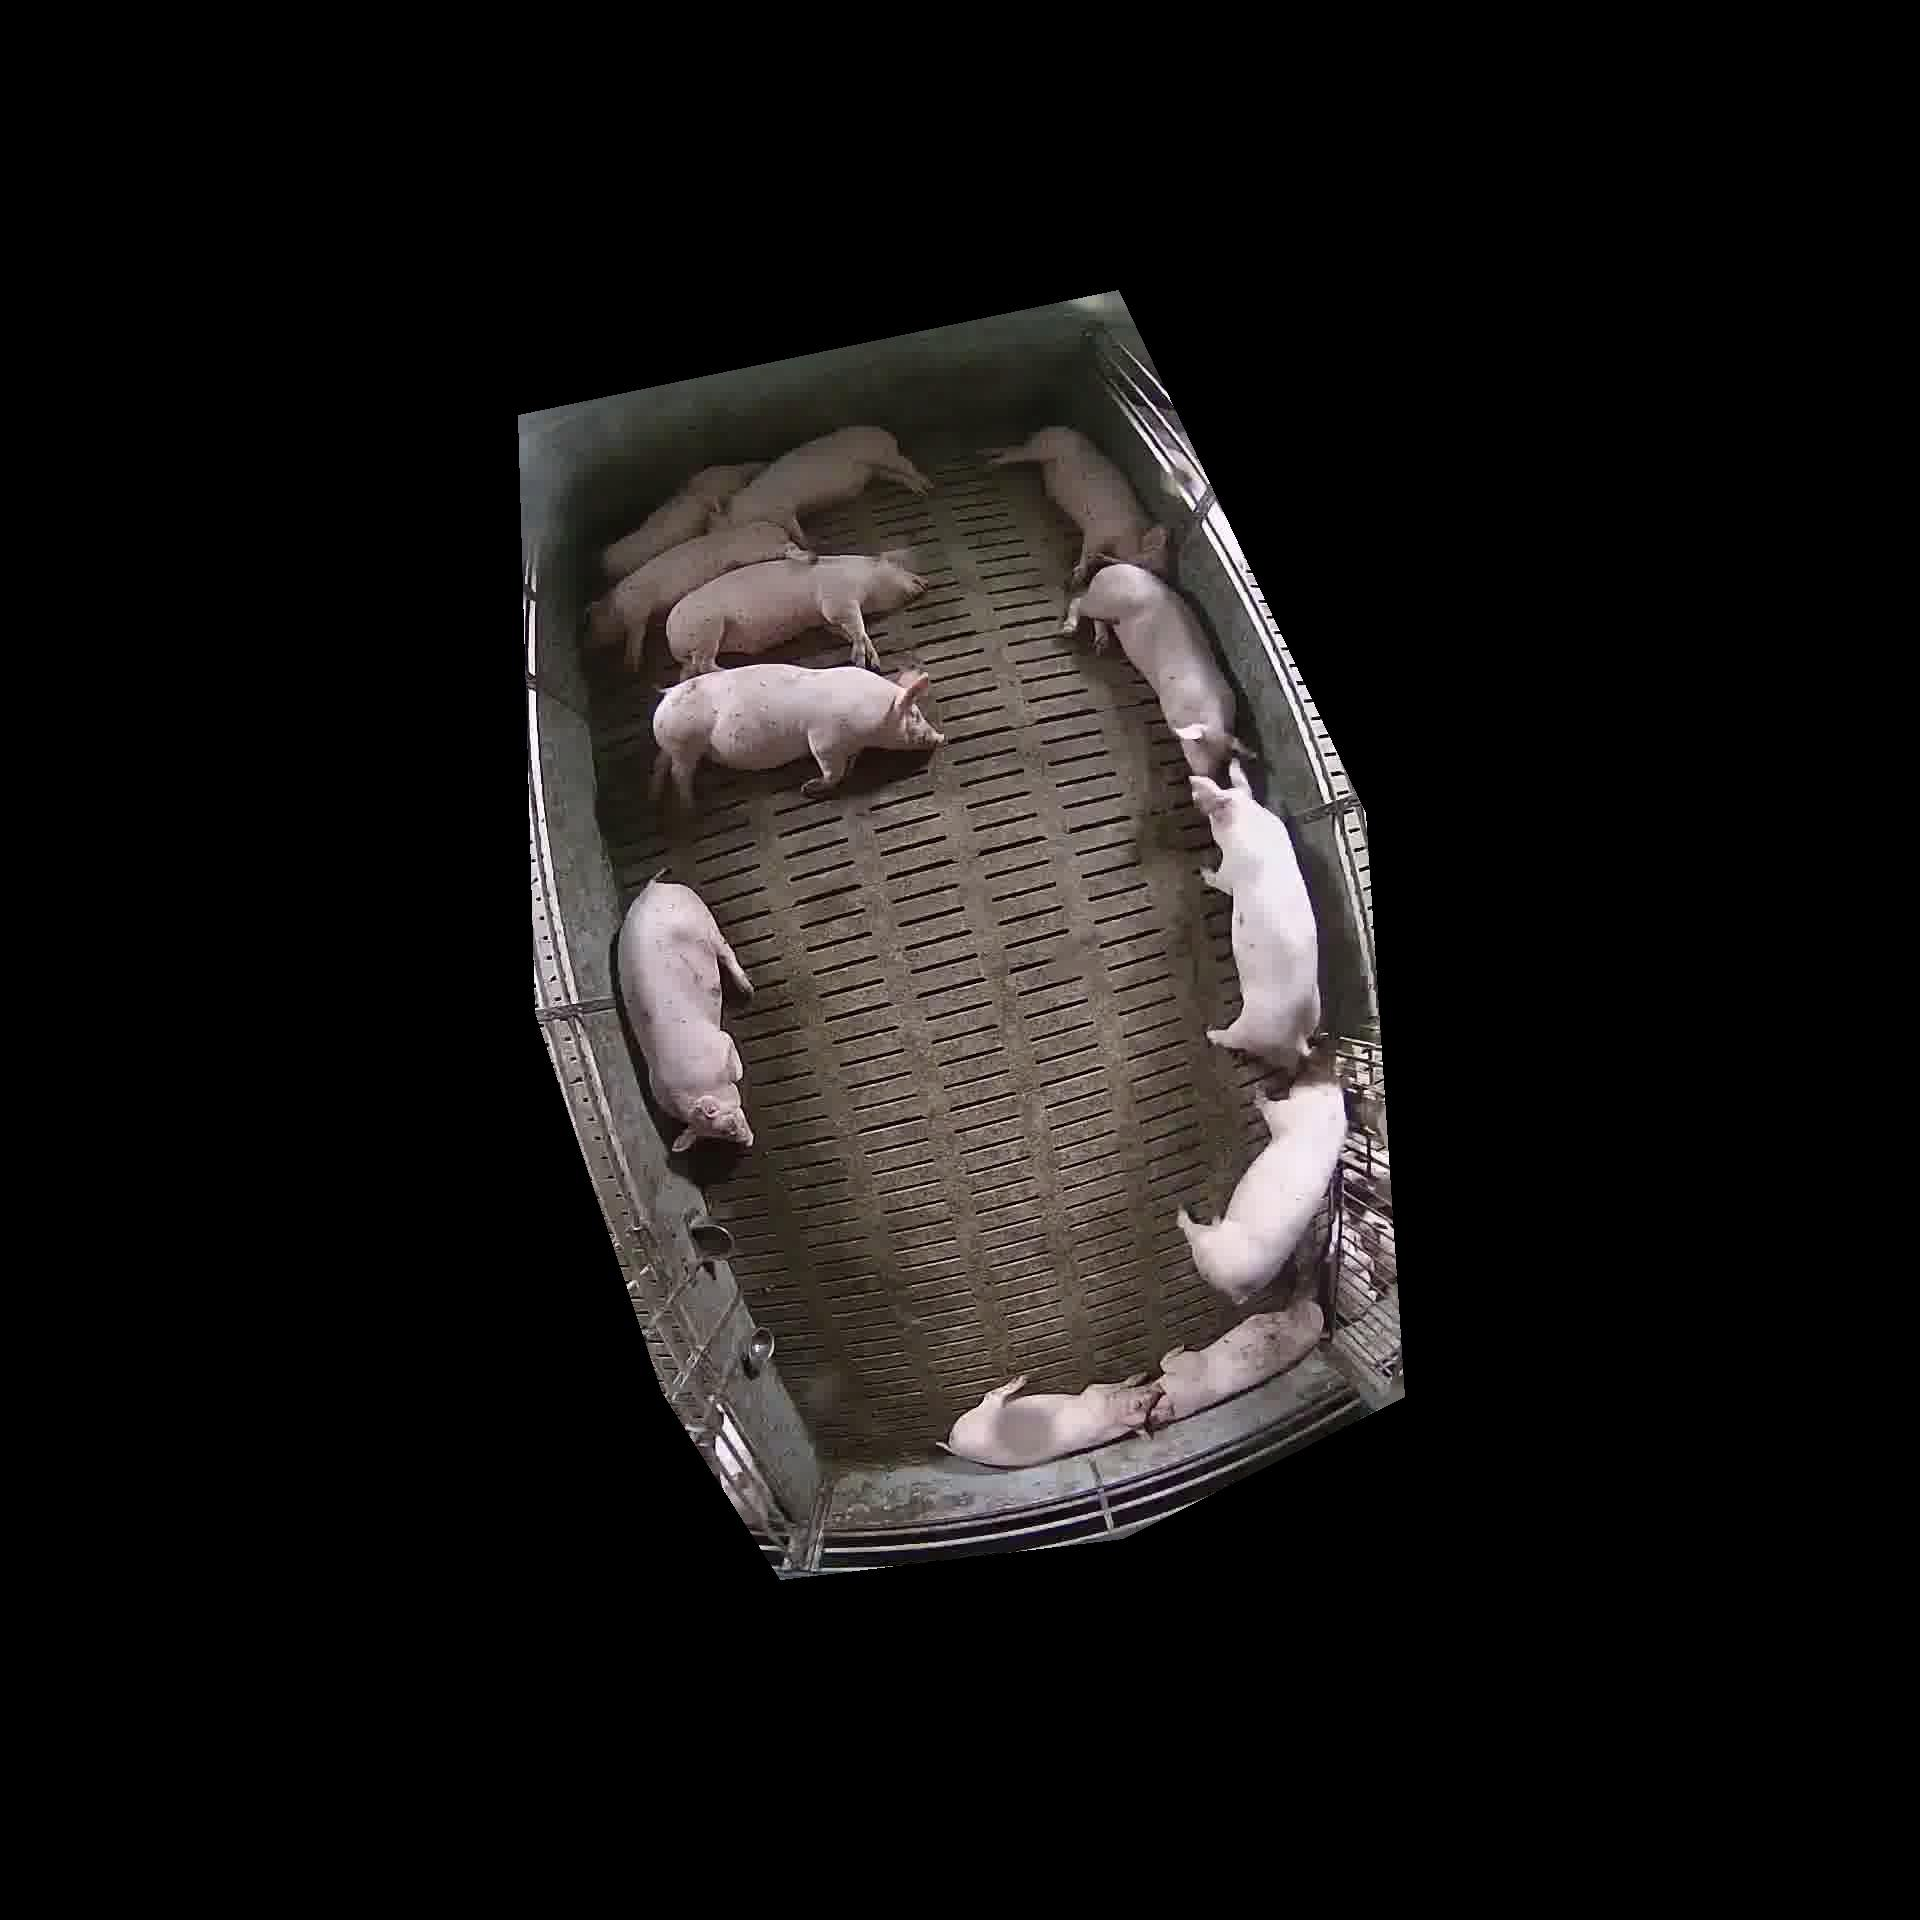pig: (651, 665, 942, 807), (1190, 761, 1320, 1071), (1064, 559, 1245, 774), (617, 879, 753, 1152), (1180, 1081, 1347, 1301), (666, 552, 927, 677), (587, 522, 805, 668), (988, 427, 1166, 585), (716, 425, 930, 543), (1150, 1299, 1324, 1424), (948, 1377, 1160, 1466), (601, 462, 763, 580)
